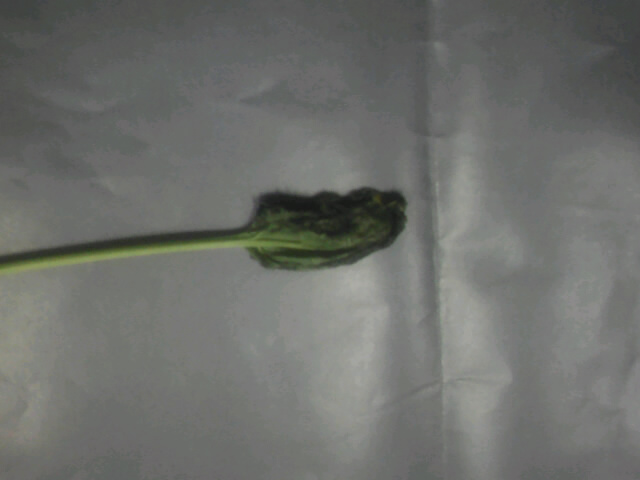yellow: (155, 184, 414, 275)
